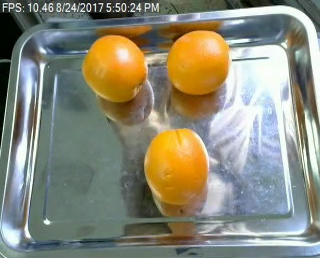Orange: (142, 126, 209, 205), (80, 34, 147, 103), (166, 29, 230, 94)
